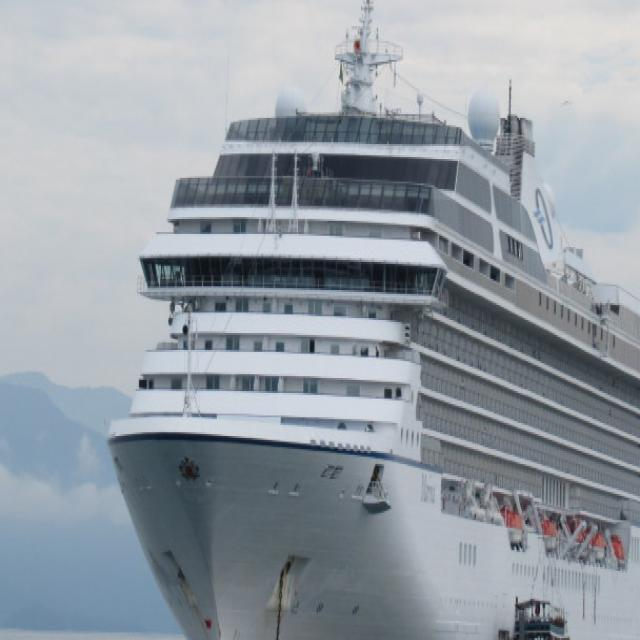cruises: (93, 1, 640, 640)
